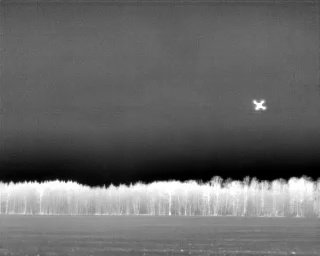DRONE: (249, 95, 271, 117)
